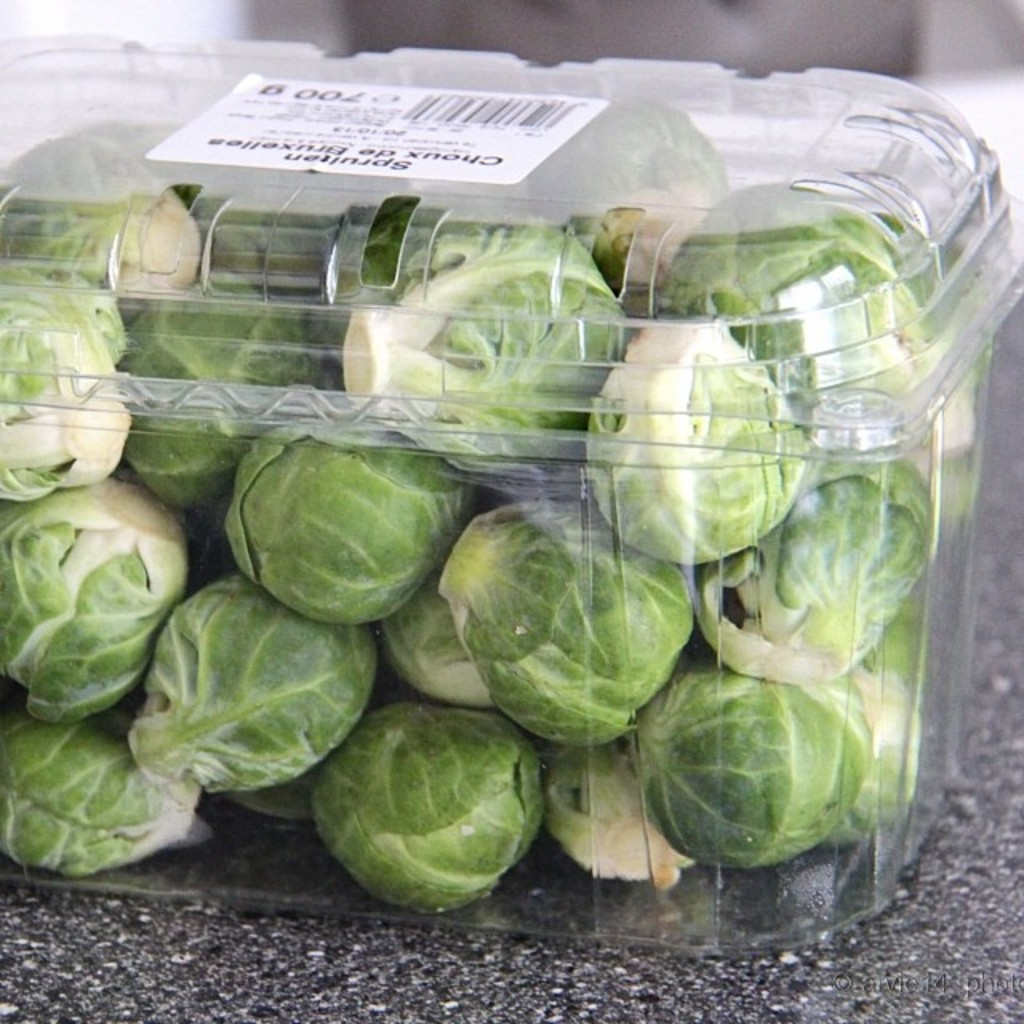Cabbage: (0, 91, 990, 916)
